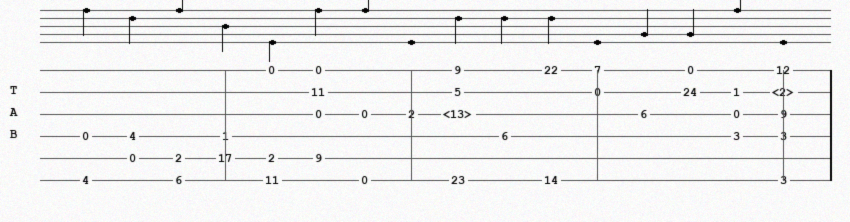0: (82, 130, 93, 142), (129, 152, 140, 164), (268, 64, 279, 76), (315, 64, 326, 76), (315, 108, 326, 120), (361, 174, 372, 186), (361, 108, 372, 120), (594, 86, 605, 98), (687, 64, 698, 76), (733, 108, 744, 120)
1: (222, 130, 233, 142), (733, 86, 744, 98)
11: (265, 174, 283, 186), (311, 86, 329, 98)
12: (776, 64, 794, 76)
14: (544, 174, 562, 186)
17: (218, 152, 236, 164)
2: (175, 152, 186, 164), (268, 152, 279, 164), (408, 108, 419, 120)
22: (544, 64, 562, 76)
23: (451, 174, 469, 186)
24: (683, 86, 701, 98)
3: (733, 130, 744, 142), (780, 130, 791, 142), (780, 174, 791, 186)
4: (82, 174, 93, 186), (129, 130, 140, 142)
5: (454, 86, 465, 98)
6: (175, 174, 186, 186), (501, 130, 512, 142), (640, 108, 651, 120)
7: (594, 64, 605, 76)
9: (315, 152, 326, 164), (454, 64, 465, 76), (780, 108, 791, 120)
harmonic: (443, 108, 477, 120), (772, 86, 799, 98)
